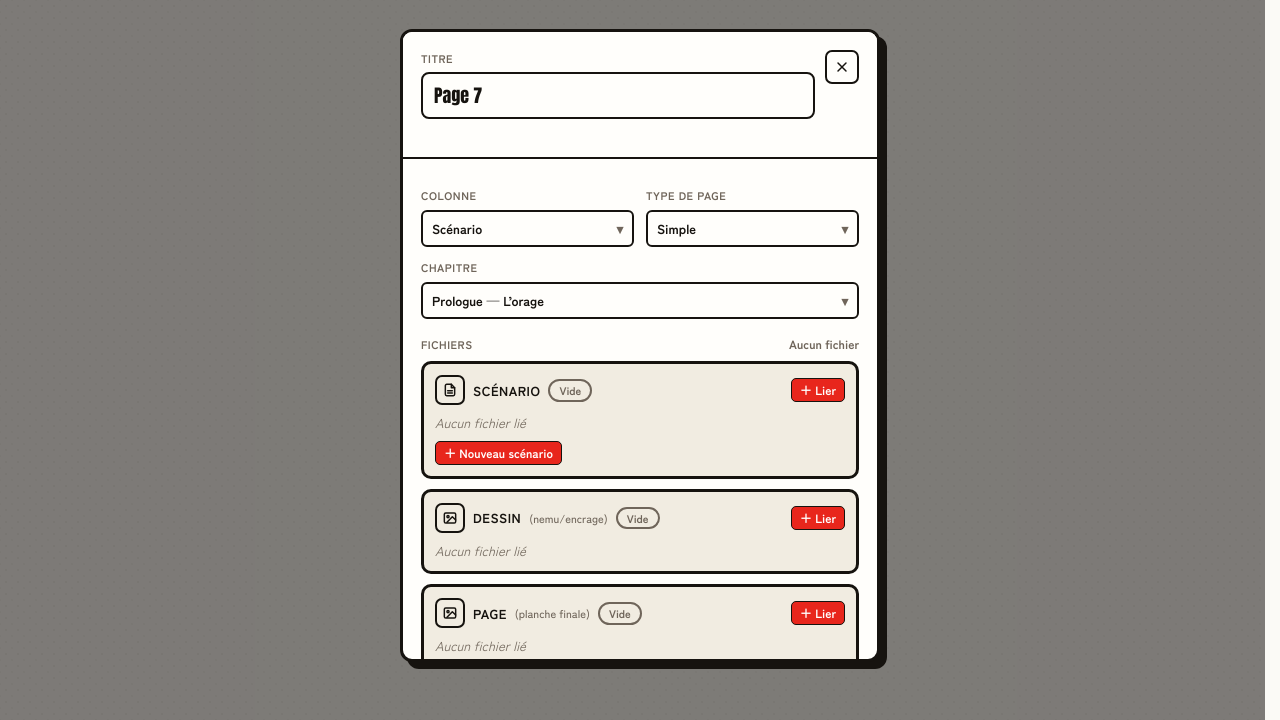
Scenario: CardModal › CHAPITRE field (R2-5) › lists this project chapters in an OnBrandSelect — no native select, no "no chapter" option
Expected: the text "CHAPITRE" is shown, [421, 259, 477, 275]
Click the dropdown named "Chapitre". click: x=488, y=300
box: [421, 282, 859, 319]
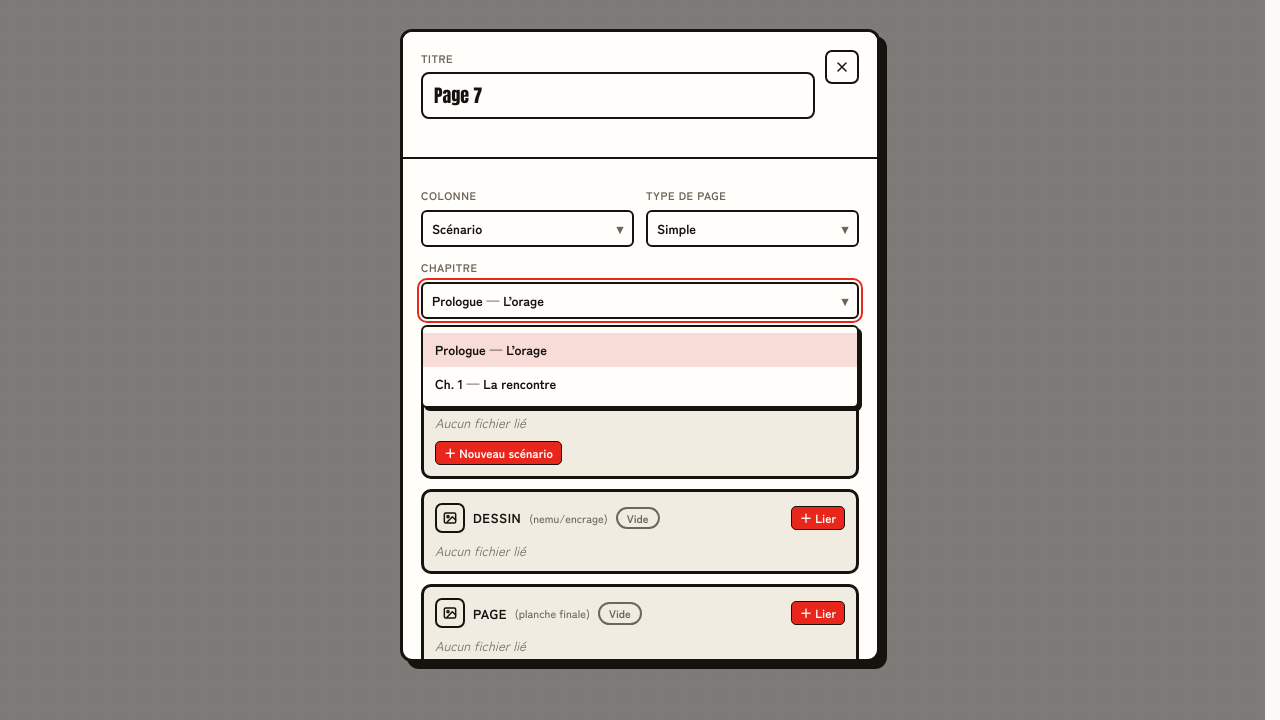
Expected: the options read "Prologue — L’orage", "Ch. 1 — La rencontre", in this order, [423, 333, 857, 367]; [435, 374, 556, 393]
